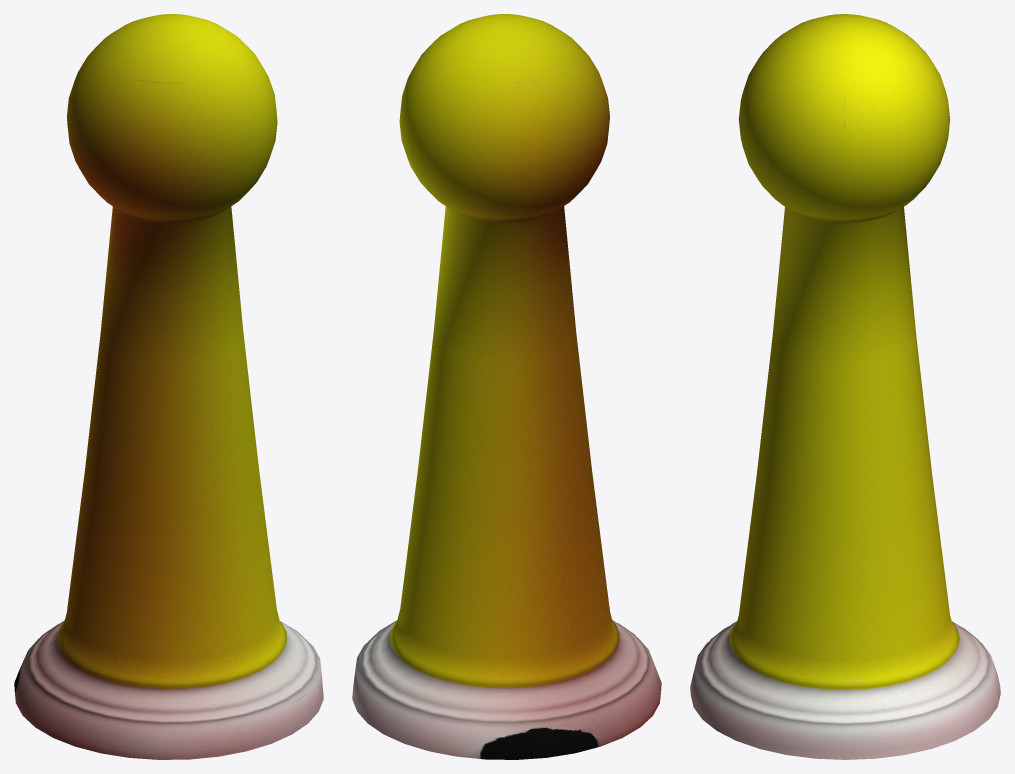
The model's file is yellow_pawn.gltf.
3 renders of one model, left to right at view 1: azimuth 30°, elevation 25°; view 2: azimuth 150°, elevation 25°; view 3: azimuth 270°, elevation 25°, orthographic.
Visible parts, largest first — view 1: pawn_lp; view 2: pawn_lp; view 3: pawn_lp.
Part boxes in pixels (x1=…): pawn_lp: x1=14, y1=14, x2=323, y2=759; pawn_lp: x1=352, y1=14, x2=661, y2=759; pawn_lp: x1=690, y1=14, x2=1000, y2=759.
Size of the model in its own units: 0.7037 by 1.68 by 0.7024.
1 material, 1 textured.
